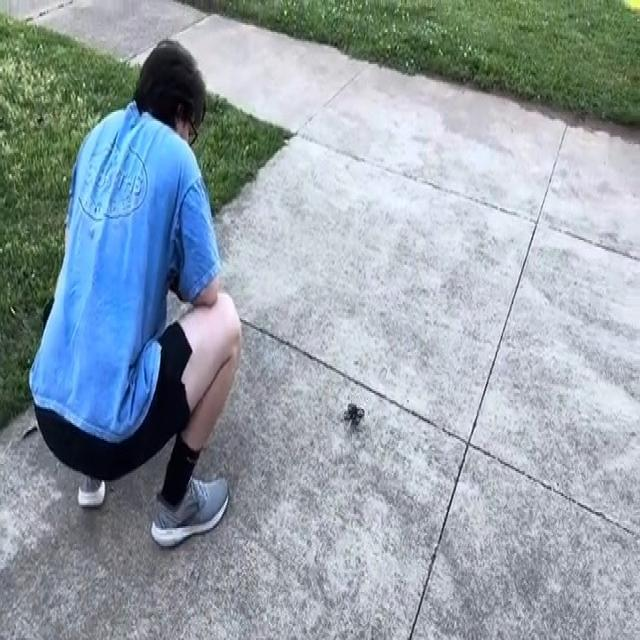drone: (335, 393, 370, 439)
